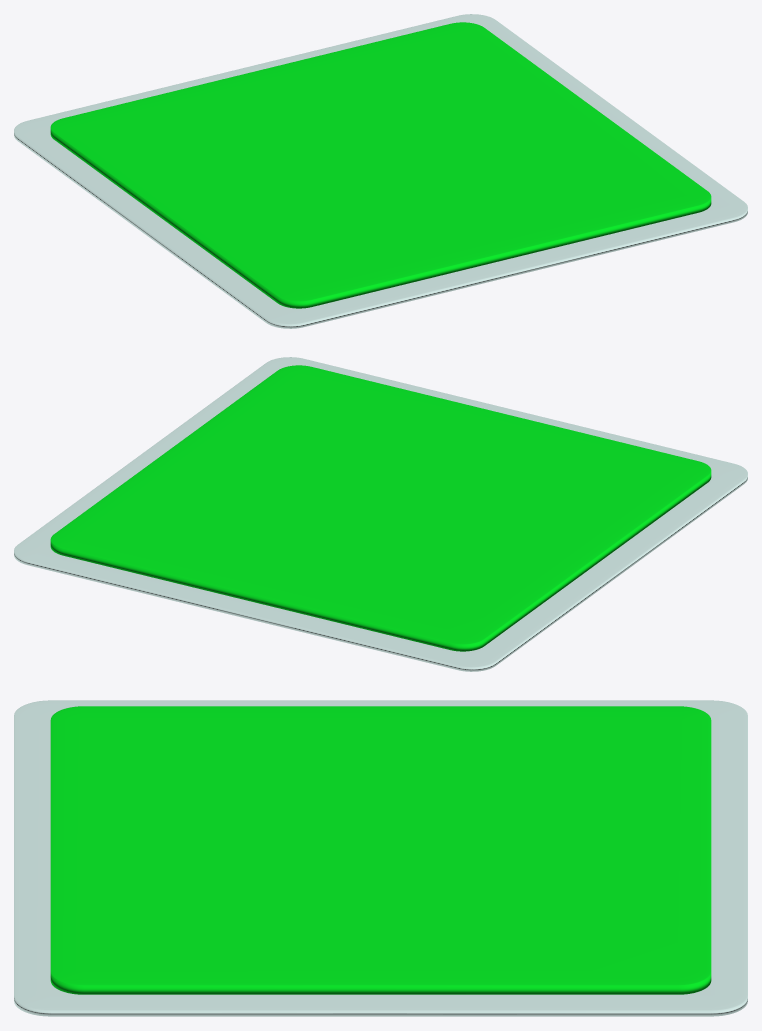
The model's file is For1Ground.fbx.
3 views of the same model, one above another, from view 1: azimuth 30°, elevation 25°; view 2: azimuth 150°, elevation 25°; view 3: azimuth 270°, elevation 25° (orthographic). The views are drawn at different scales.
Visible parts, largest first — view 1: First, Floor; view 2: First, Floor; view 3: First, Floor.
Boxes of the visible parts, x1,y1,x2,y2 form: First: (50, 22, 711, 308); Floor: (14, 14, 747, 328); First: (50, 365, 711, 651); Floor: (14, 357, 747, 671); First: (50, 706, 711, 994); Floor: (14, 700, 747, 1016).
Bounding box in the file's own units: 200 × 5 × 200.
